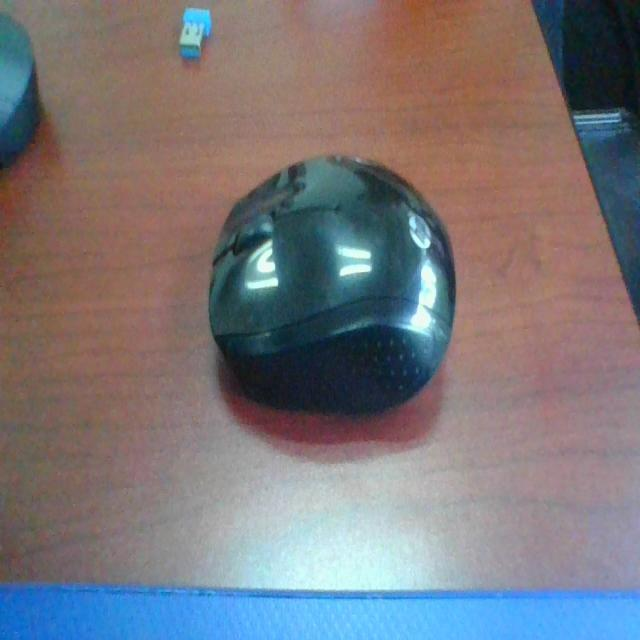mouse: (201, 166, 478, 400)
